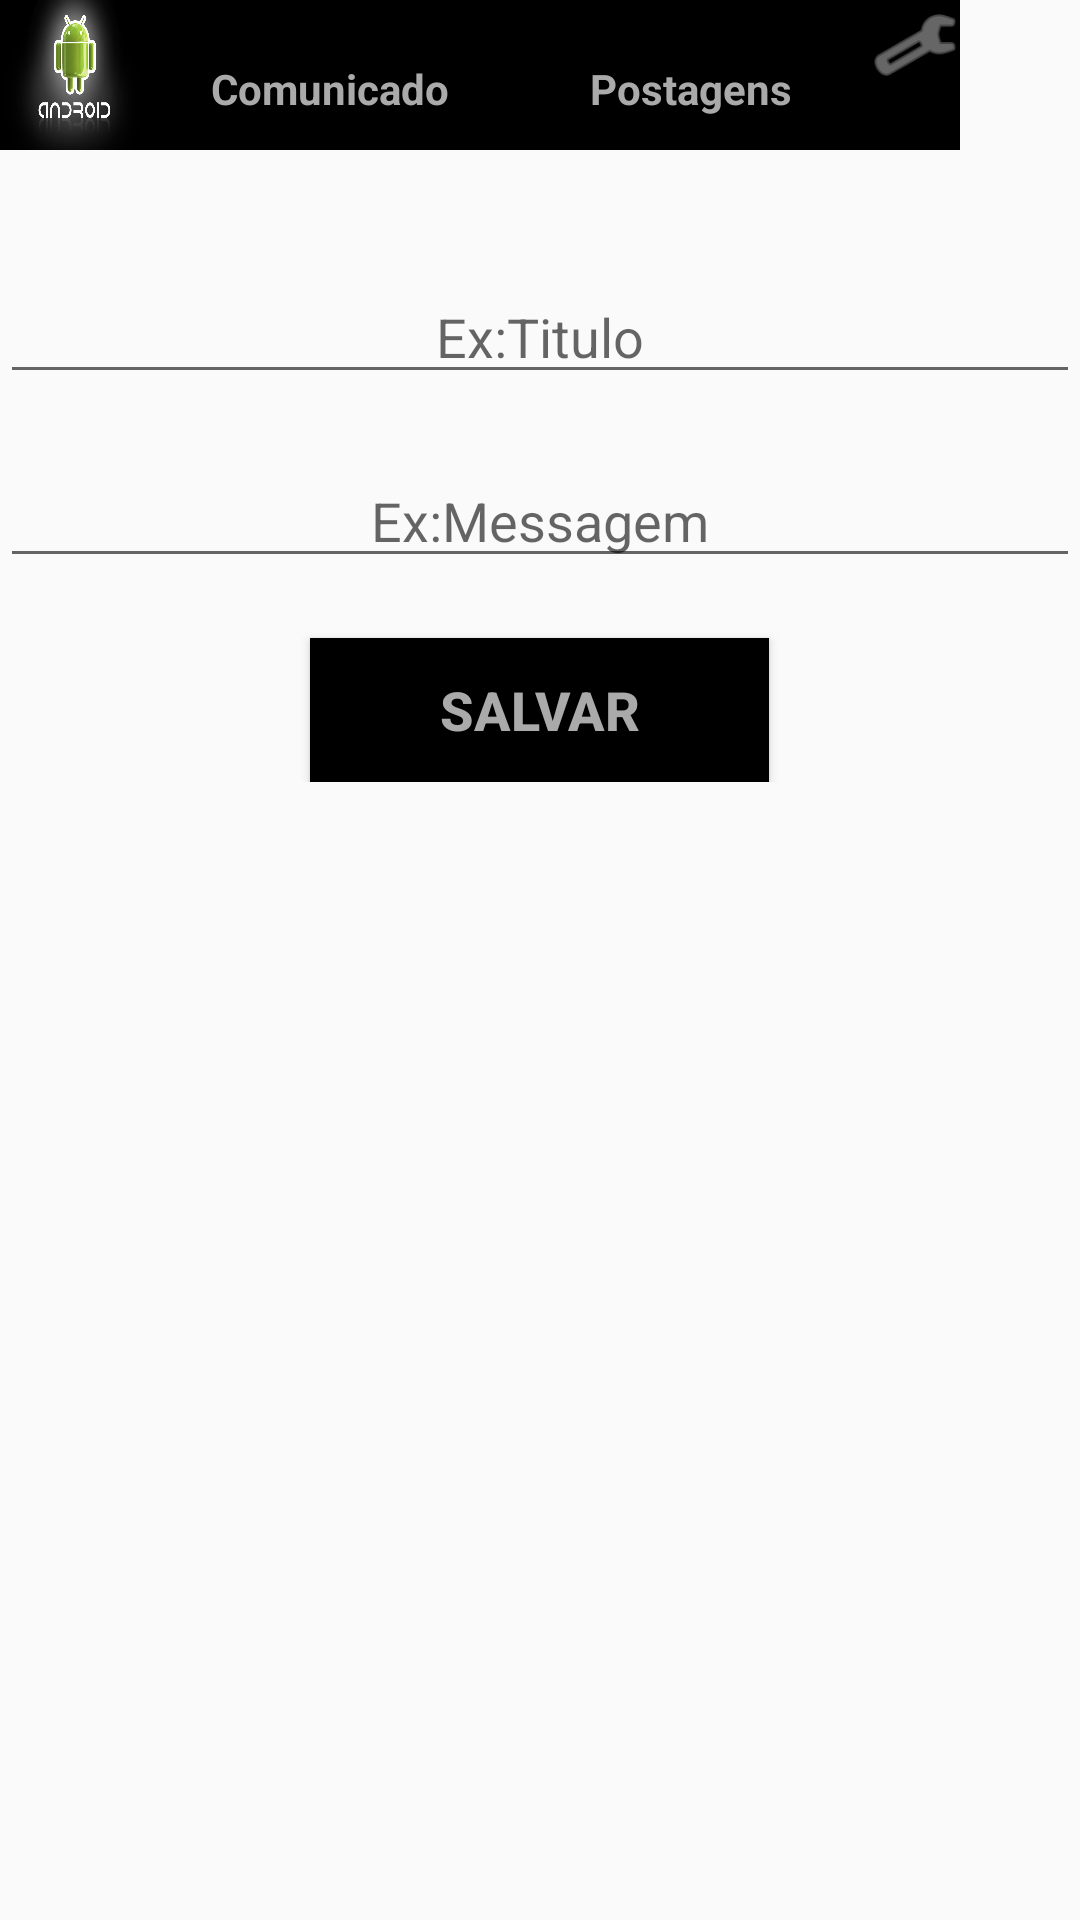

Screen size 1080px×1920px. Icon name, then its center in pixels as (x,y):
preferences: (914,45)
